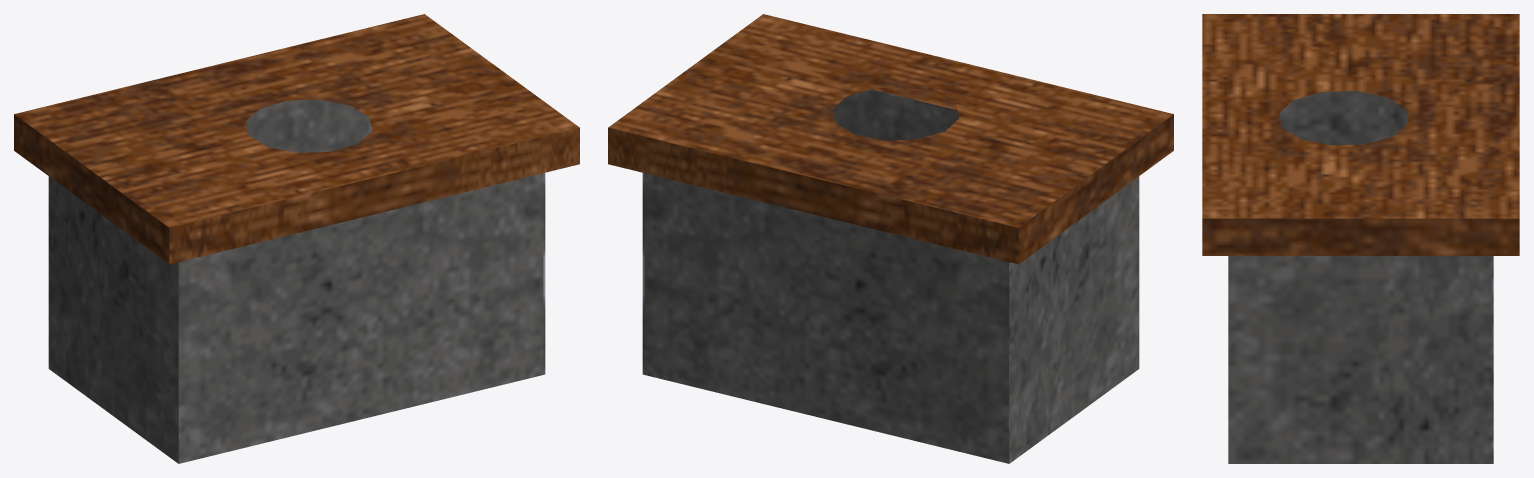
Rendered from SM_Dungeon_Toilet_Small.fbx.
3 views of the same model, side by side, from view 1: azimuth 30°, elevation 25°; view 2: azimuth 150°, elevation 25°; view 3: azimuth 270°, elevation 25° (orthographic). The views are drawn at different scales.
Parts seen in each view (by area): view 1: SM_Dungeon_Toilet.001; view 2: SM_Dungeon_Toilet.001; view 3: SM_Dungeon_Toilet.001.
Boxes of the visible parts, box(x1,y1,x2,y2) form: SM_Dungeon_Toilet.001: box(14, 14, 579, 463); SM_Dungeon_Toilet.001: box(608, 14, 1173, 463); SM_Dungeon_Toilet.001: box(1202, 14, 1519, 463).
Size of the model in its own units: 113 by 65.85 by 73.92.
